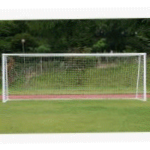goals: (1, 51, 149, 104)
